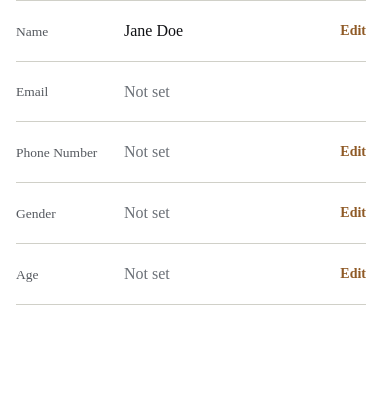
Scenario: ProfileScreen › editing the name › puts the row back as it was on Cancel, writing nothing
Click the button with test id "profile-edit-name" at [353, 31], box top-left (340, 9), bottom-right (366, 53)
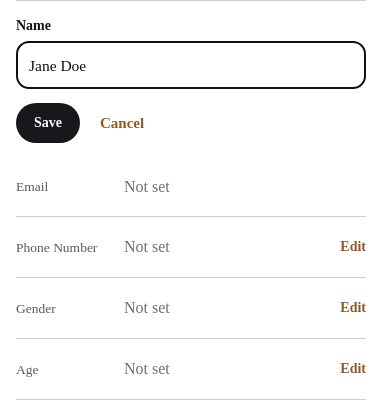
Replace the text in the field with test id "profile-name-input" with "Someone Else" at [191, 65], box top-left (16, 41), bottom-right (366, 89)
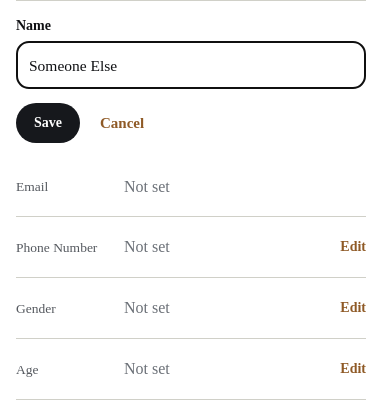
Click the button with test id "profile-cancel" at [122, 123], box top-left (88, 101), bottom-right (156, 145)
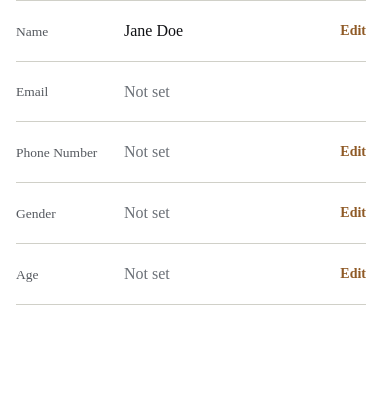
Result: the field with test id "profile-name-input" is gone
Result: the text with test id "profile-name" reads "Jane Doe" at top-left (124, 22), bottom-right (183, 39)
